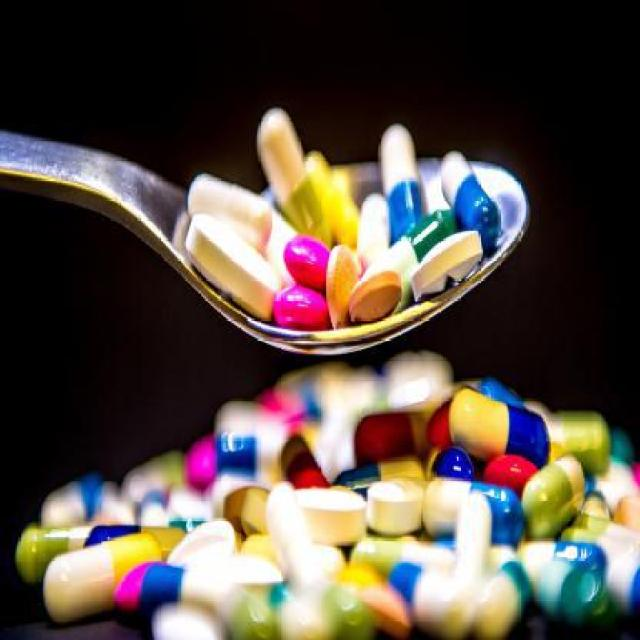B3: (23, 378, 639, 638), (186, 96, 505, 313)
